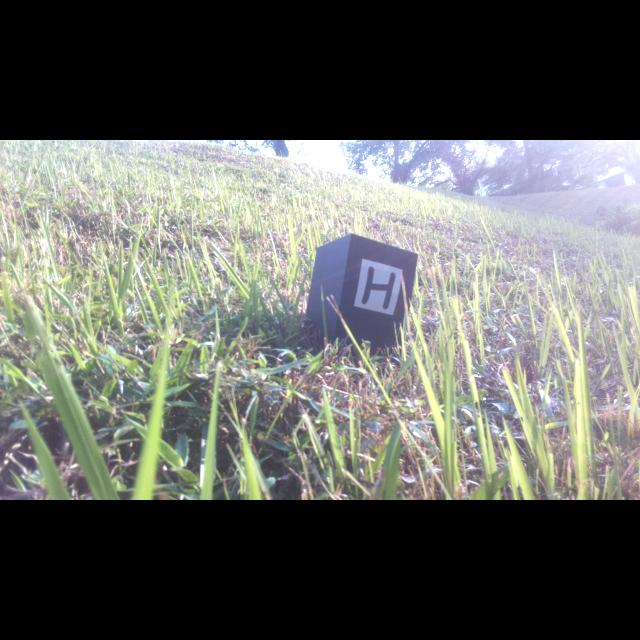H: (362, 267, 396, 310)
